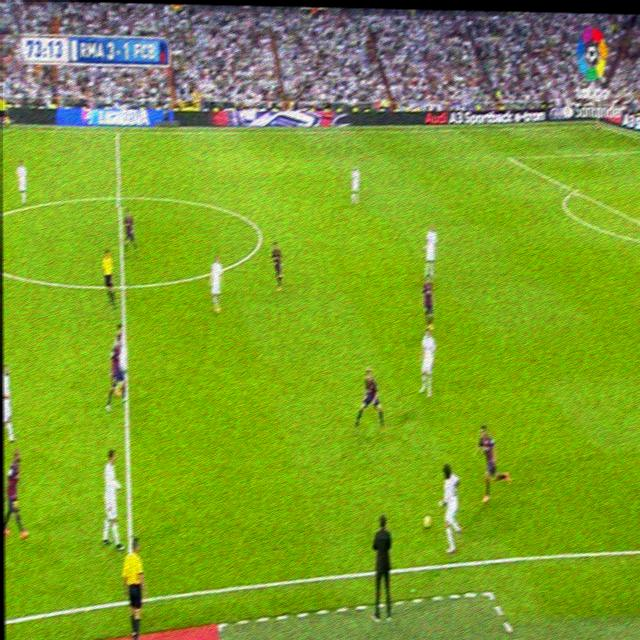corner: (593, 119, 601, 131)
halfcircle_bottom: (116, 273, 129, 299)
halfcircle_top: (113, 186, 125, 207)
midline_top_intersection: (112, 125, 121, 138)
top_arc_area_intersection: (569, 183, 579, 197)
